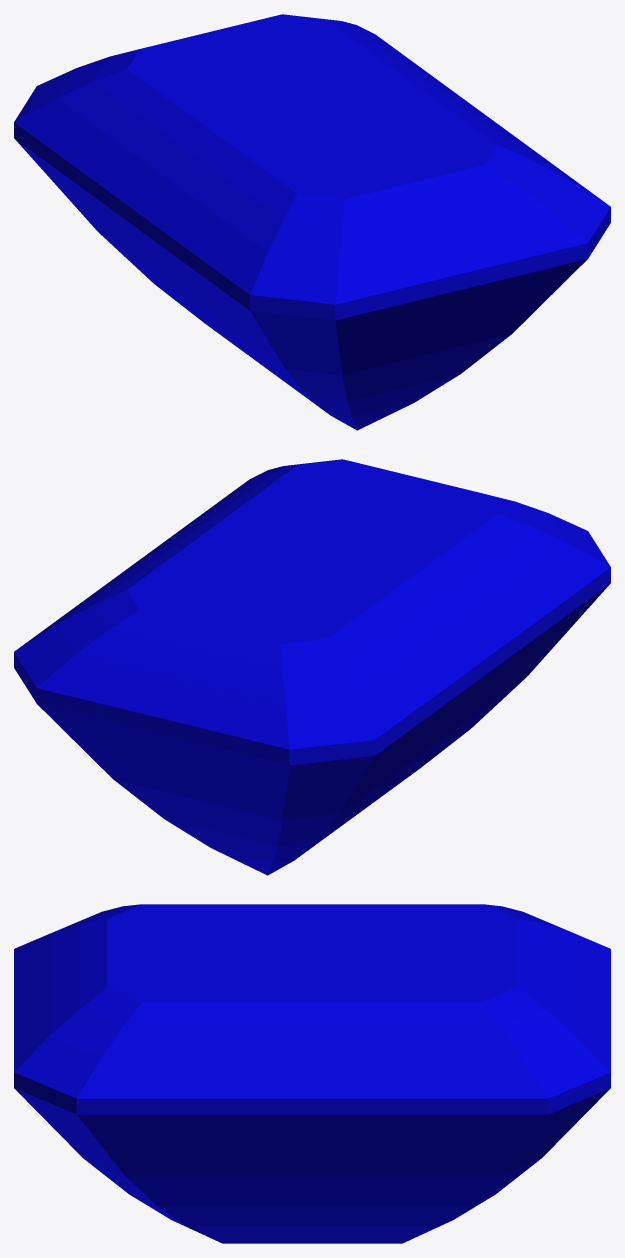
Rendered from Head_Hidden Halo_Emerald_1.5ct_Diamond.glb.
3 renders of one model, top to bottom at view 1: azimuth 30°, elevation 25°; view 2: azimuth 150°, elevation 25°; view 3: azimuth 270°, elevation 25°, orthographic.
Size of the model in its own units: 0.0054 by 0.00415 by 0.00773.
